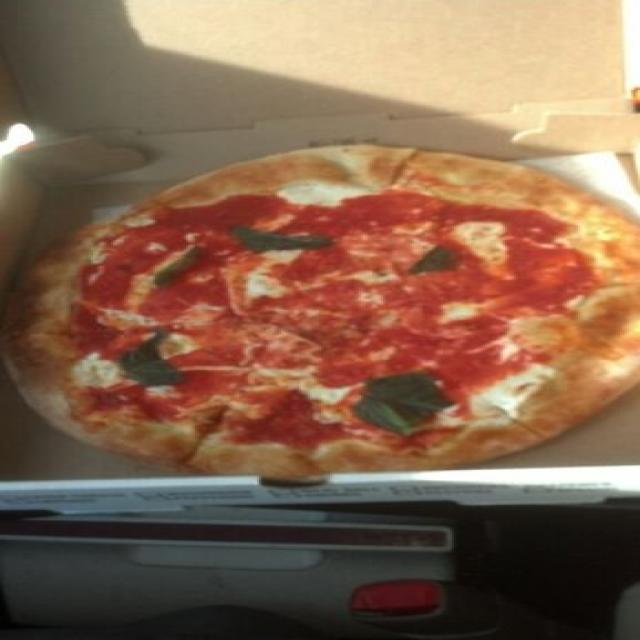Basil: (355, 370, 453, 433), (114, 326, 190, 387), (226, 219, 340, 257), (149, 240, 210, 287), (406, 243, 458, 272)
Cheese: (465, 364, 549, 421), (249, 250, 300, 304), (461, 218, 519, 265), (71, 348, 118, 392)
Pizza: (7, 144, 640, 482)
